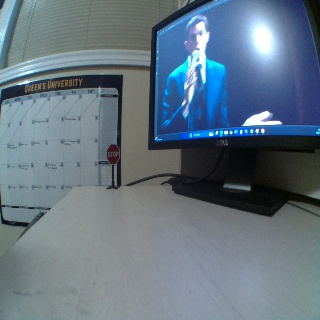sign_stop: (105, 143, 119, 161)
